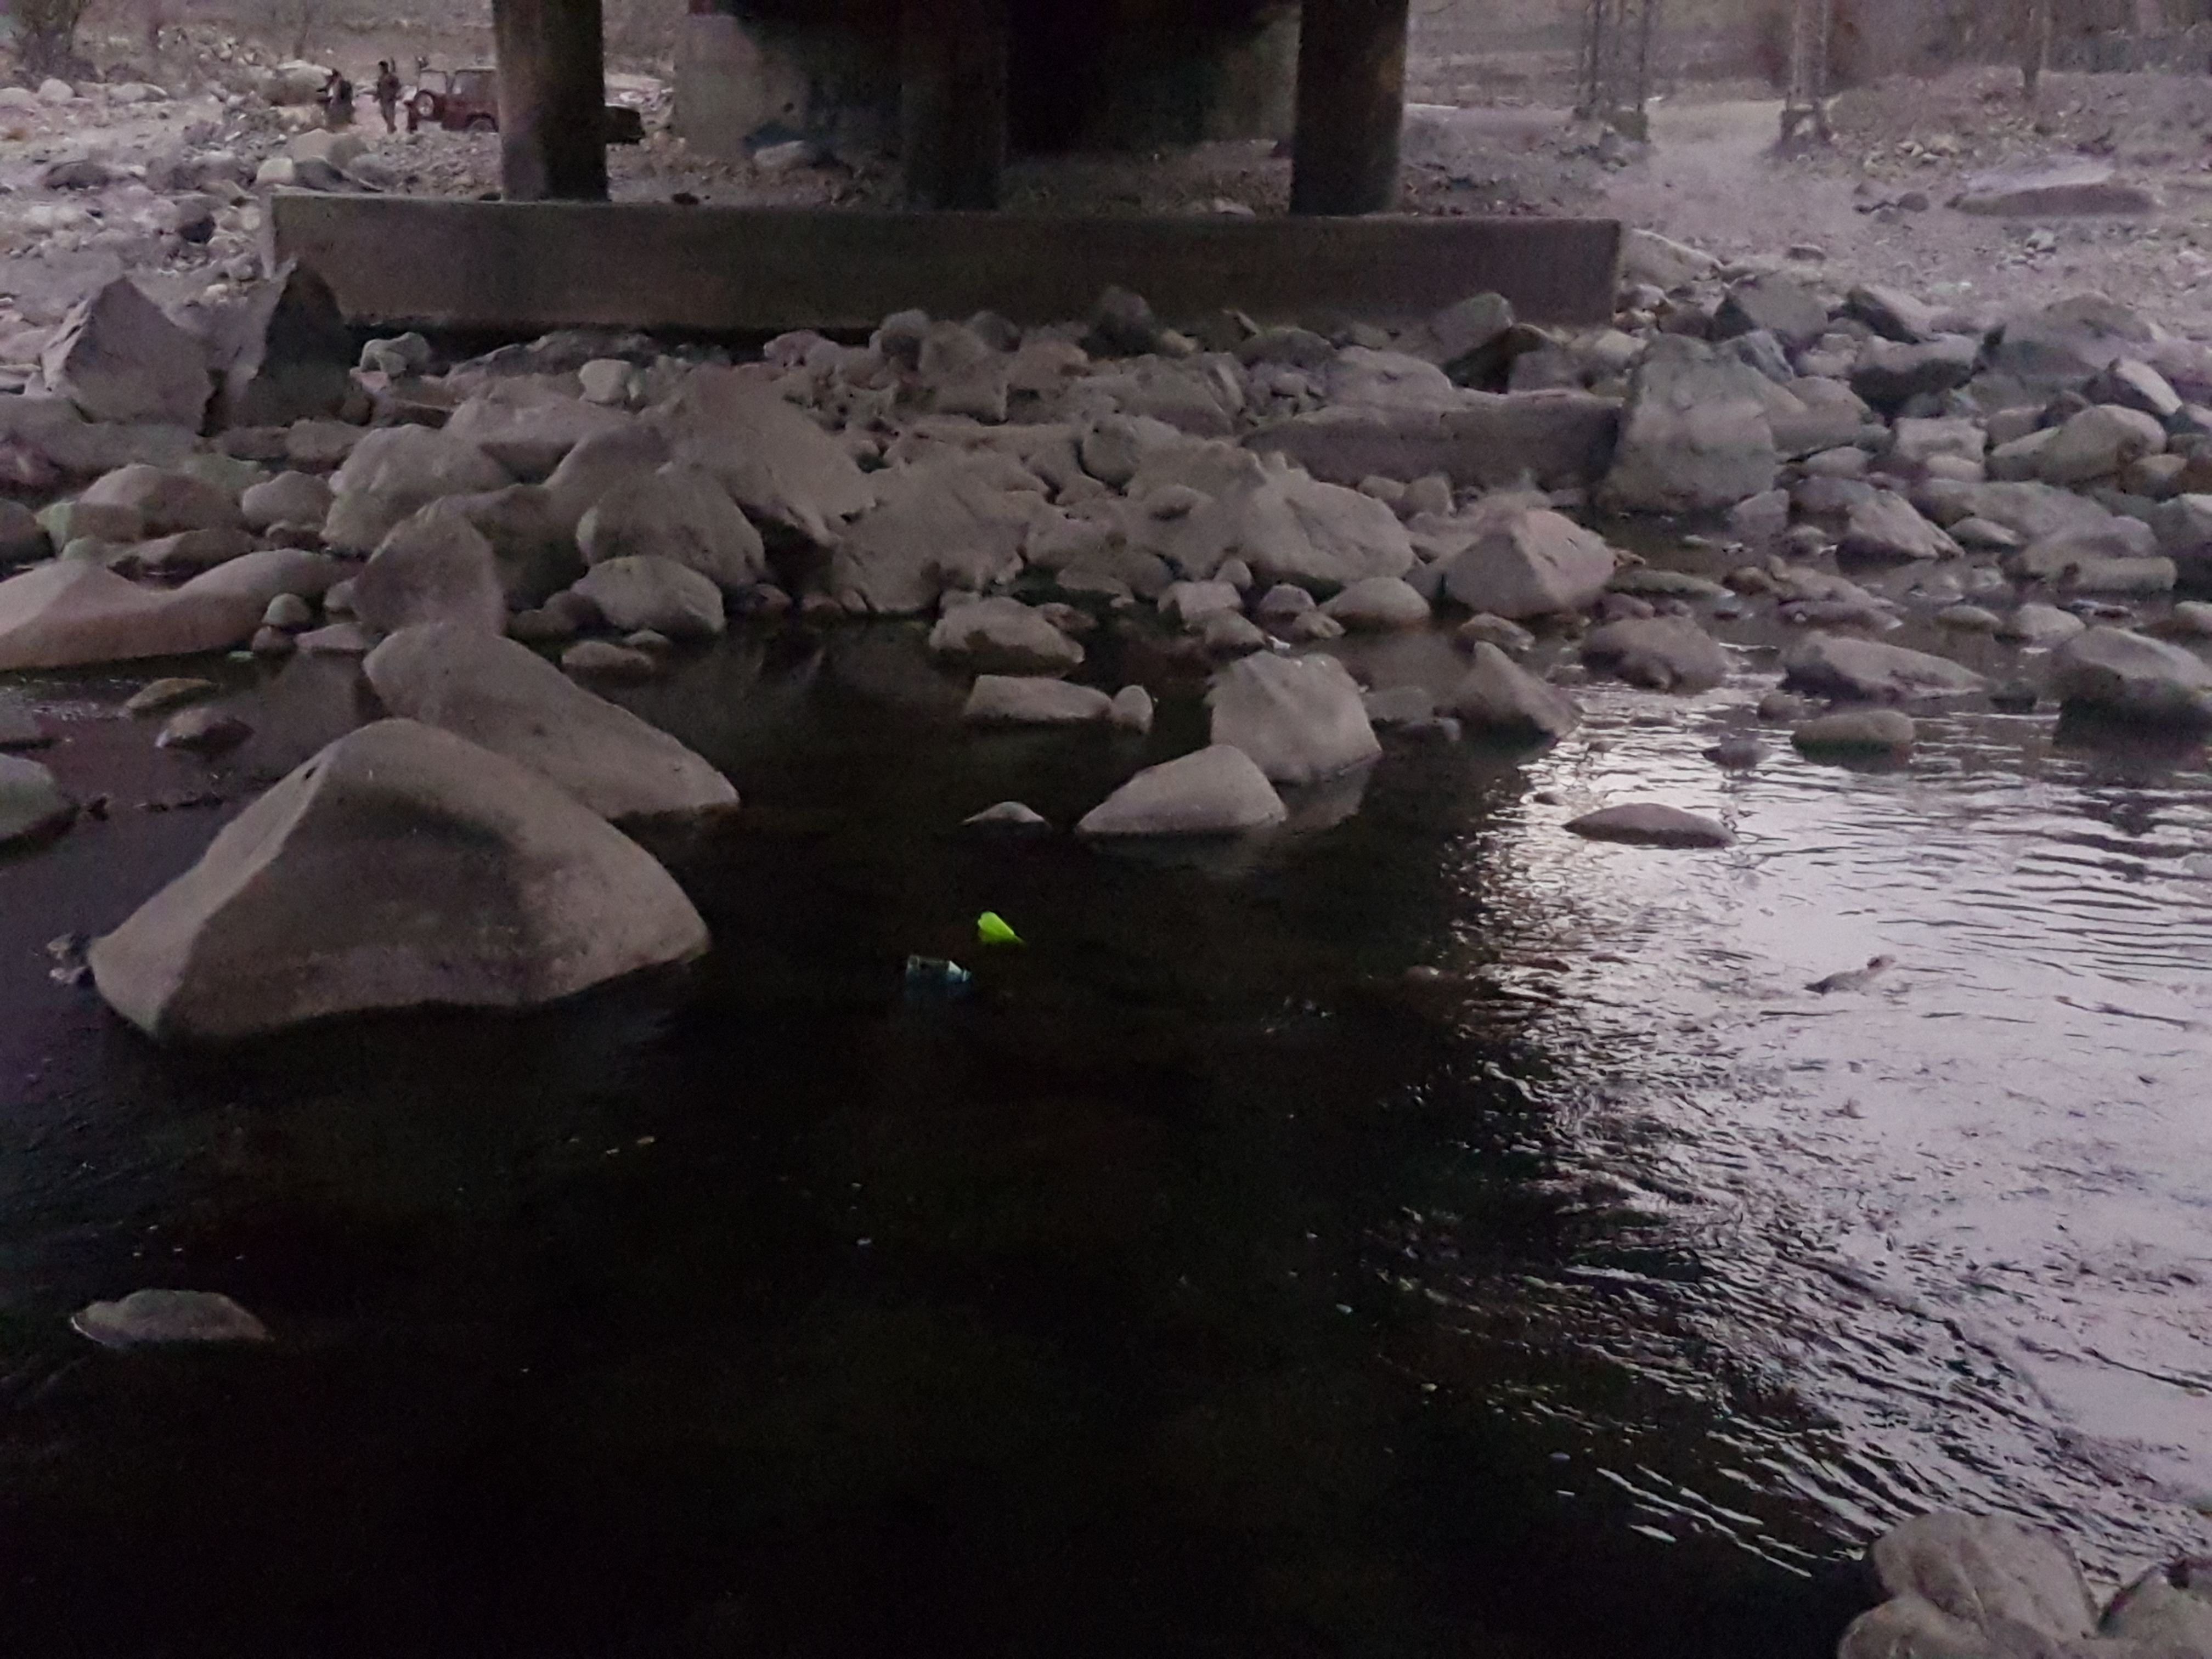Plastic Bottle: (904, 955, 970, 981), (977, 910, 1014, 936), (230, 650, 254, 659)
